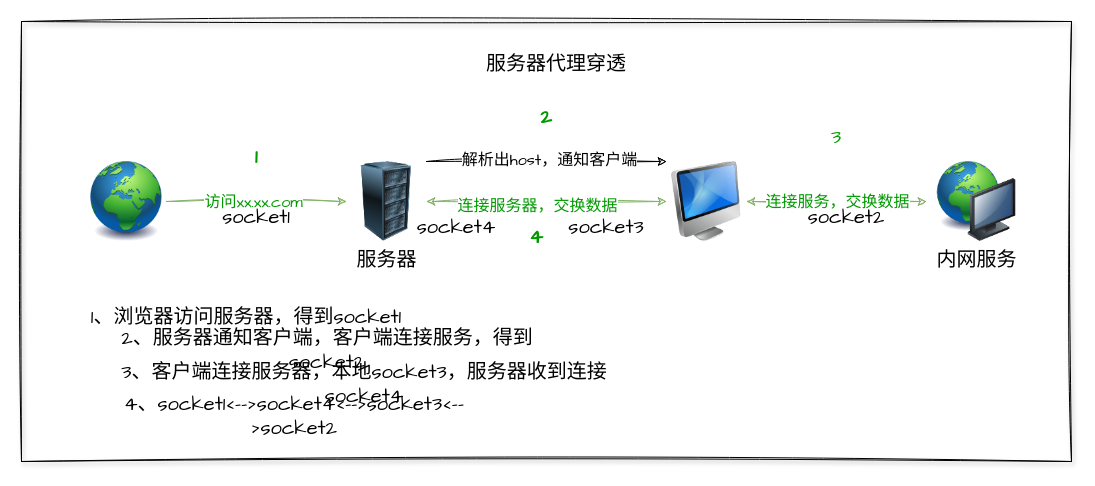
Image size: 1095x486. Some labels were removed from this diagram. Each missing label, with the centre of its shape:
"客户端" belongs at pixel 706 201.
"浏览器" belongs at pixel 126 201.
